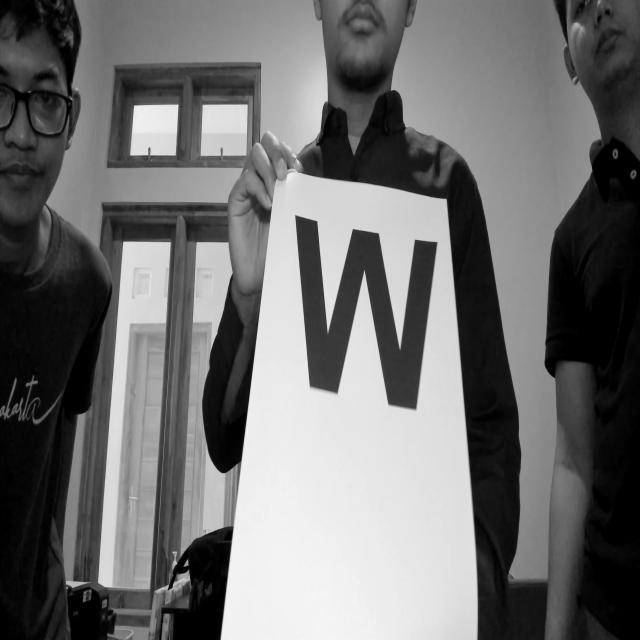w: (287, 195, 448, 425)
